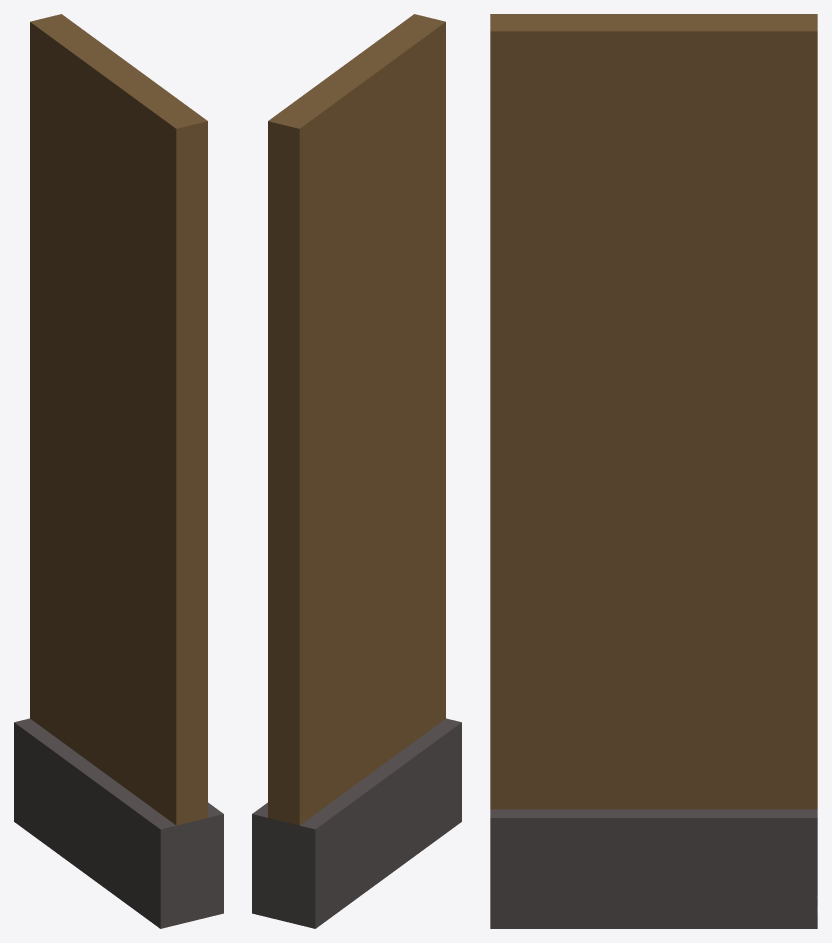
File: wall.gltf
The picture shows the model from 3 angles, left to right: view 1: azimuth 30°, elevation 25°; view 2: azimuth 150°, elevation 25°; view 3: azimuth 270°, elevation 25°; orthographic projection. The views are drawn at different scales.
Parts seen in each view (by area): view 1: mesh (×2); view 2: mesh (×2); view 3: mesh (×2).
Boxes of the visible parts, x1,y1,x2,y2 form: mesh (×2): (14,14,223,928); mesh (×2): (252,14,461,928); mesh (×2): (490,14,817,928).
Size of the model in its own units: 0.25 by 3 by 1.
1 material, 1 textured.
